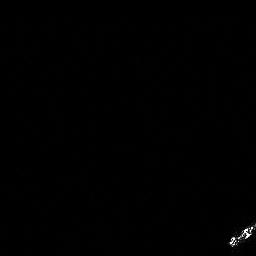ship: (228, 224, 256, 248)
